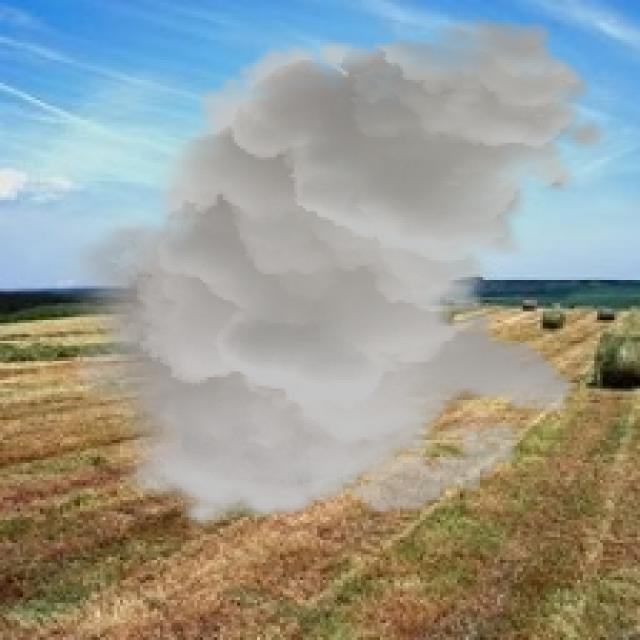smoke: (51, 14, 612, 532)
